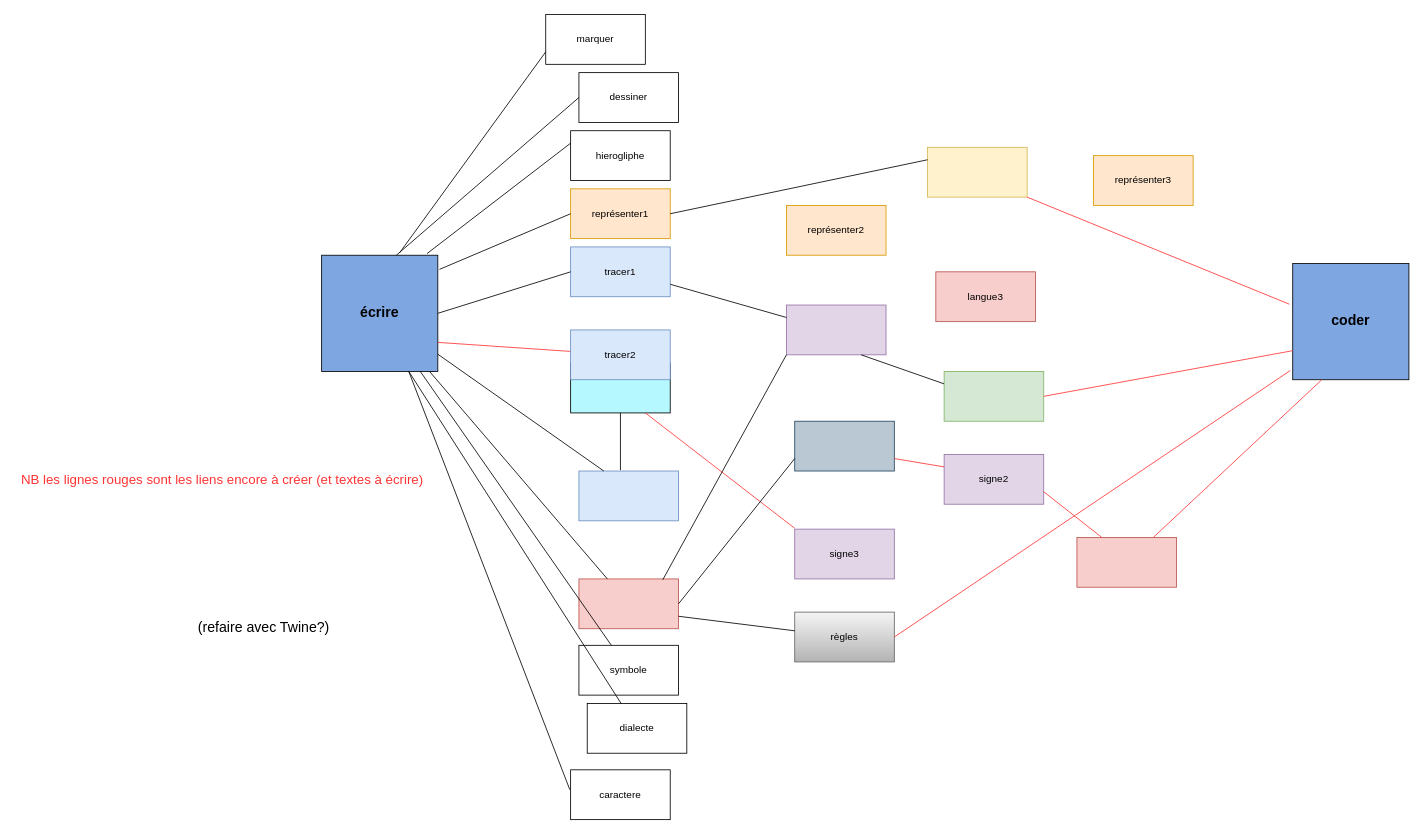
Some shapes in this 1423 by 834 pixel diagram are drawn without their labels. The shapes that lost their labels are listed below. From the top down, each one's centre as x and y in pixels, then its label:
At (977,171): "langage1".
At (836,329): "signe1".
At (620,387): "indice".
At (993,396): "action".
At (844,445): "réflexivité".
At (628,495): "tracer3".
At (1126,562): "langue2".
At (628,603): "langue1".
